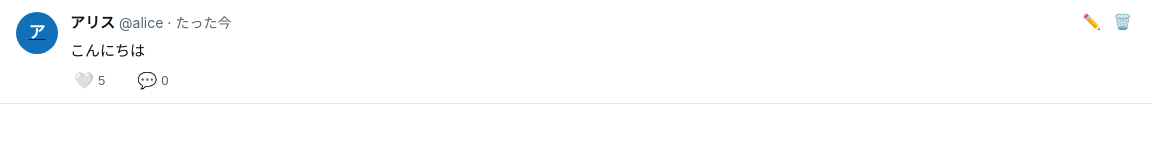
Test: PostCard › いいねボタン押下で楽観的更新され、API 成功時はそのまま
Click the text "5" at (102, 80), box x1=98 y1=74 x2=105 y2=87
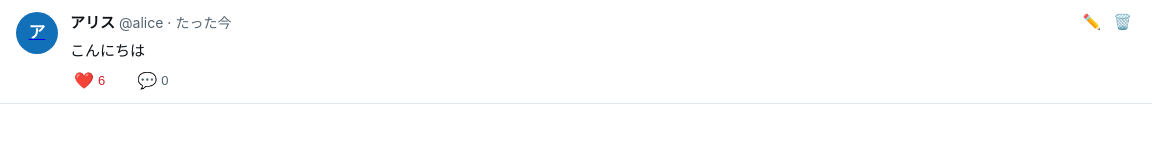
Now the text "6" is shown, box x1=98 y1=74 x2=105 y2=87
